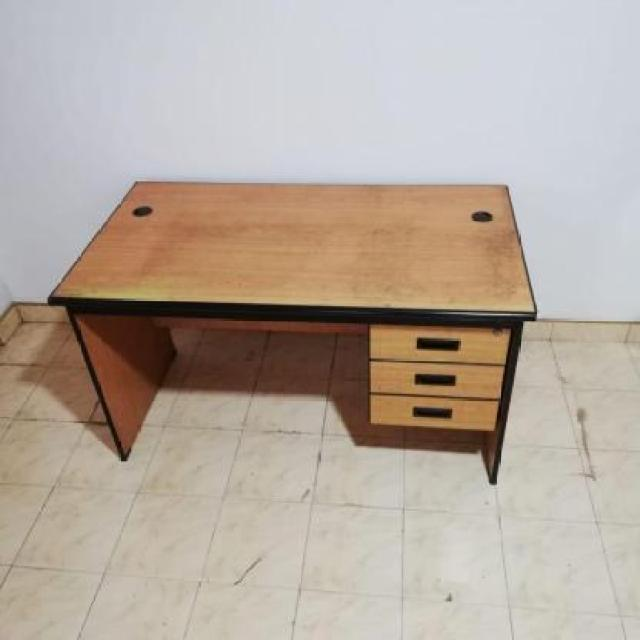tables: (46, 177, 537, 483)
